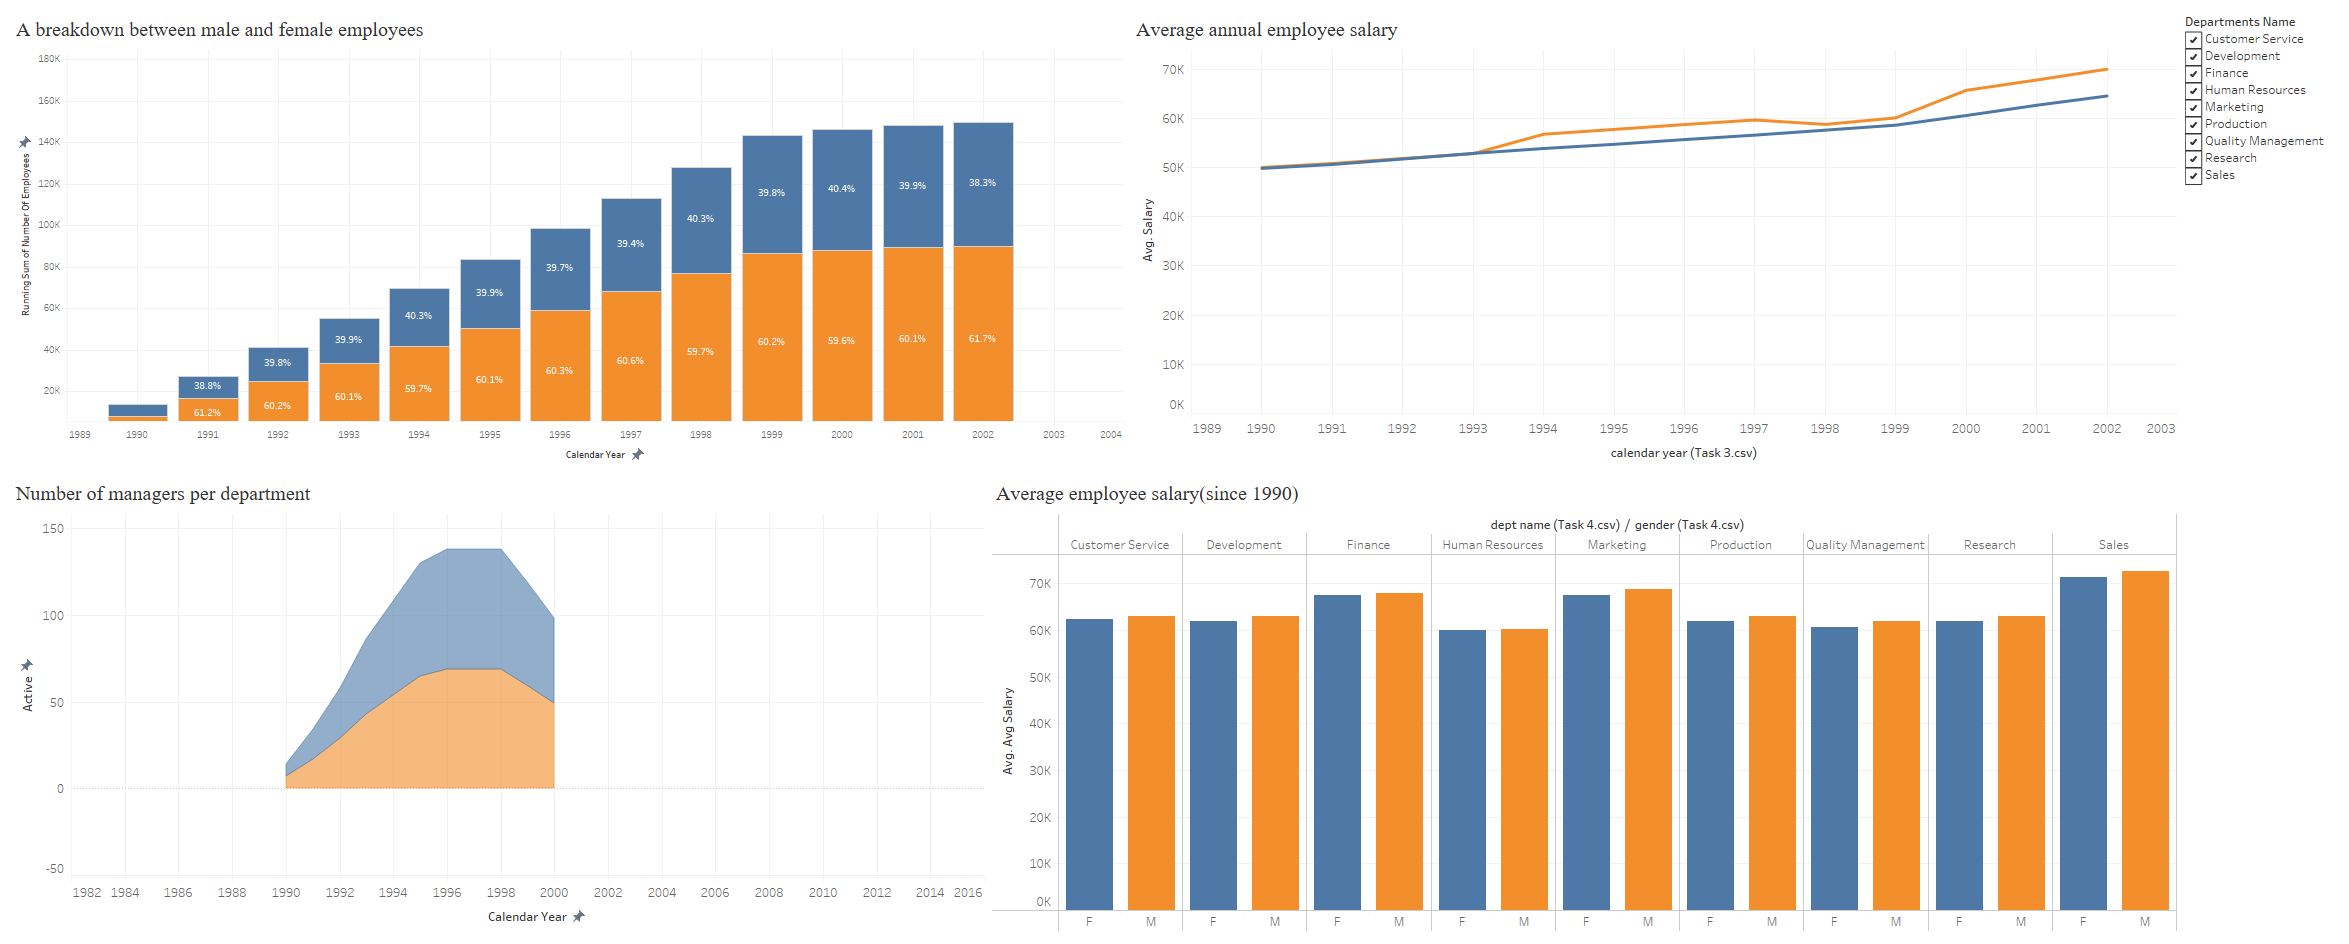

This screenshot's page, from the dashboard's own definition file:
{"tool":"tableau","page":{"name":"Dashboard 1","canvas":[1000,1000],"units":"permille","ordinal":0},"visuals":[{"type":"worksheet","title":"Chat 1","mark":"Bar","rows":["number_of_employees"],"cols":["calendar_year"],"box":[7.5,8.5,417.7,491.5]},{"type":"worksheet","title":"Chart 3","mark":"Automatic","rows":["salary"],"cols":["calendar_year (Task_3.csv)"],"box":[425.1,8.5,417.7,491.5]},{"type":"filter","title":"Chart 3","param":"[federated.0pw52lw045yhuw19pjlor1yrsnik].[none:dept_name (Task_3.csv):nk]","box":[842.9,8.5,149.7,235.2]},{"type":"worksheet","title":"Chat 2","mark":"Area","rows":["active"],"cols":["calendar_year"],"box":[7.5,500,417.7,491.5]},{"type":"worksheet","title":"Chart 4","mark":"Automatic","rows":["avg_salary"],"cols":["dept_name (Task_4.csv)","gender (Task_4.csv)"],"box":[425.1,500,417.7,491.5]}]}

Visuals, with their boxes on the dashboard's canvas, which has no fixed pixel size, in thousandths of its width and height (x1, y1, x2, y2). These are canvas units, not pixel positions in the 2349x944 screenshot, which may show the page scaled, cropped or inside an application window:
"Chat 1" worksheet (Bar marks): 8:8:425:500
"Chart 3" worksheet: 425:8:843:500
"Chart 3" filter: 843:8:993:244
"Chat 2" worksheet (Area marks): 8:500:425:992
"Chart 4" worksheet: 425:500:843:992
